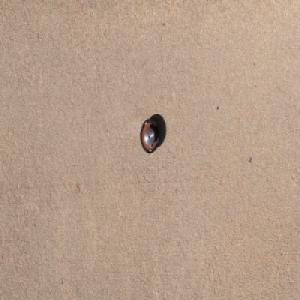FuelCap: (139, 116, 160, 154)
